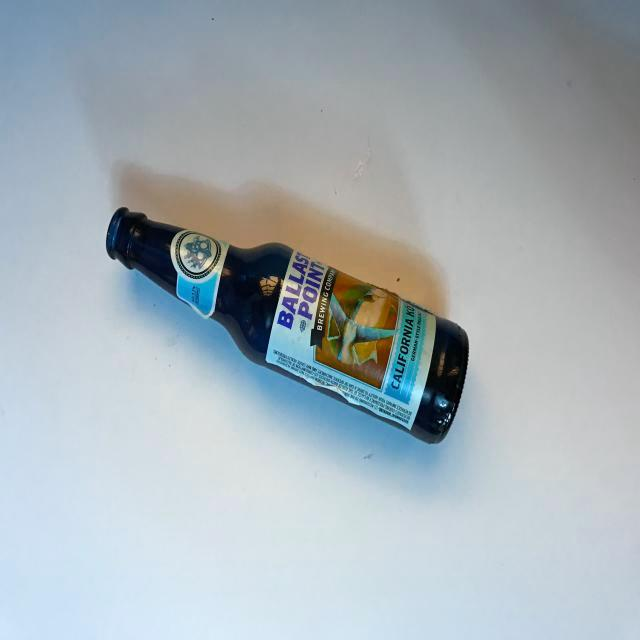glass: (100, 195, 472, 445)
